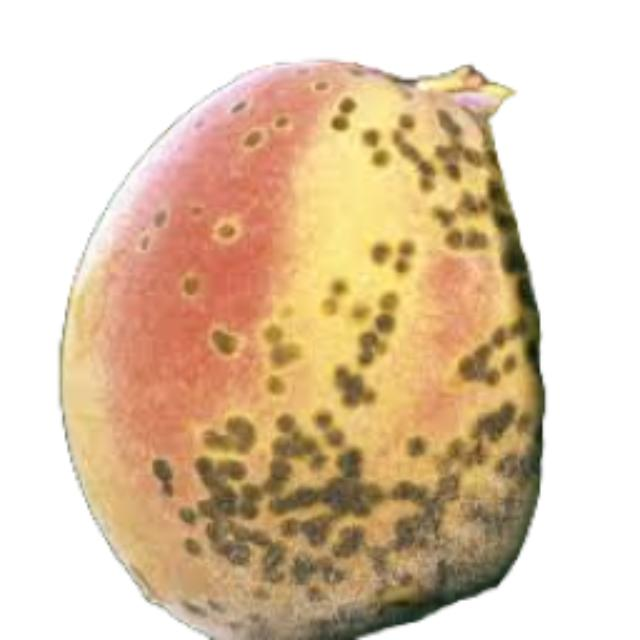defect: (50, 50, 550, 640)
